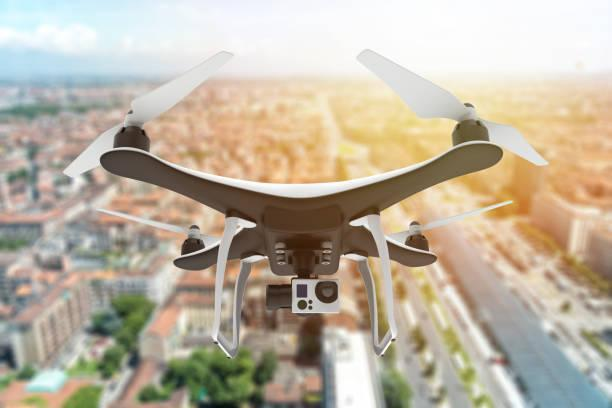camera: (257, 273, 349, 323)
